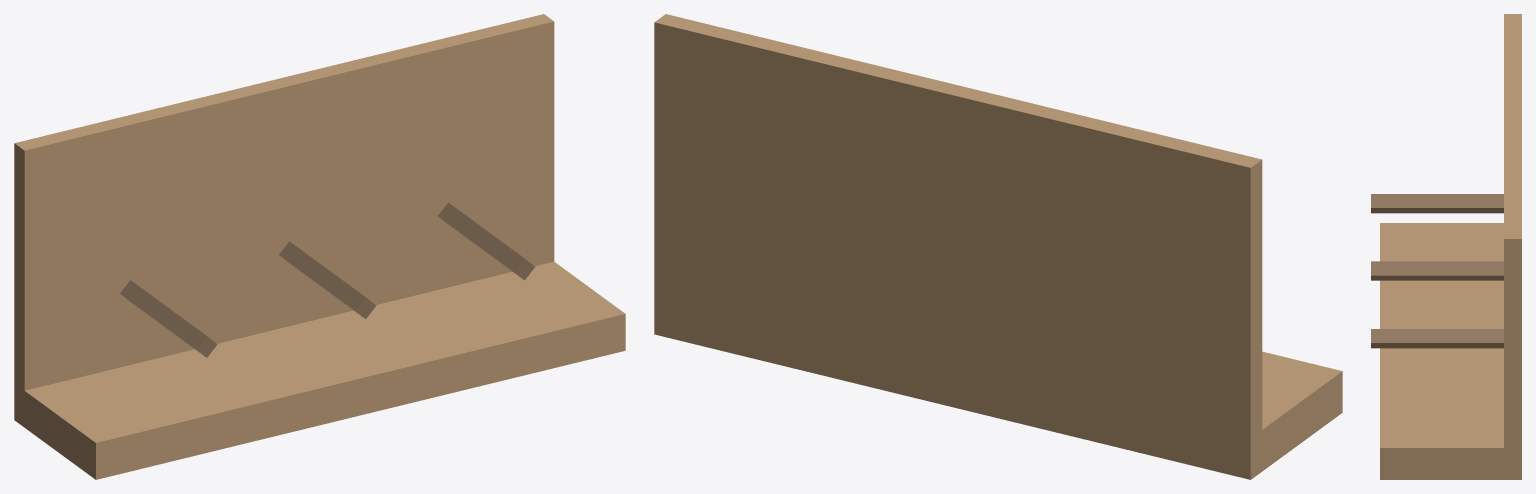
File: prop-bobbin-rack-lb1.fbx
3 views of the same model, side by side, from view 1: azimuth 30°, elevation 25°; view 2: azimuth 150°, elevation 25°; view 3: azimuth 270°, elevation 25° (orthographic). The views are drawn at different scales.
Parts seen in each view (by area): view 1: prop-bobbin-rack-lb1; view 2: prop-bobbin-rack-lb1; view 3: prop-bobbin-rack-lb1.
Part boxes in pixels (left/top/right/bottom): prop-bobbin-rack-lb1: left=14, top=14, right=625, bottom=479; prop-bobbin-rack-lb1: left=654, top=14, right=1342, bottom=479; prop-bobbin-rack-lb1: left=1371, top=14, right=1521, bottom=479.
Bounding box in the file's own units: 30 × 15 × 8.5.
